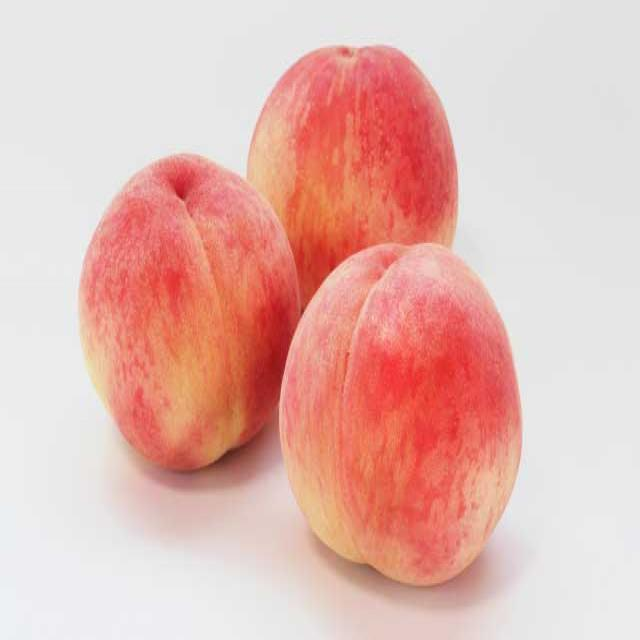peach: (276, 234, 531, 601), (75, 146, 297, 480), (239, 39, 465, 292)
